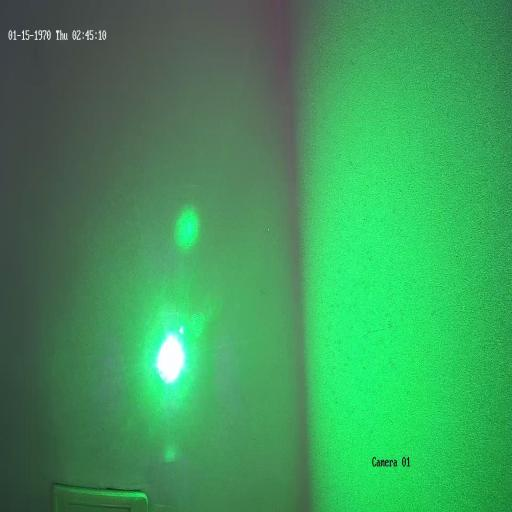laser: (152, 320, 194, 386)
